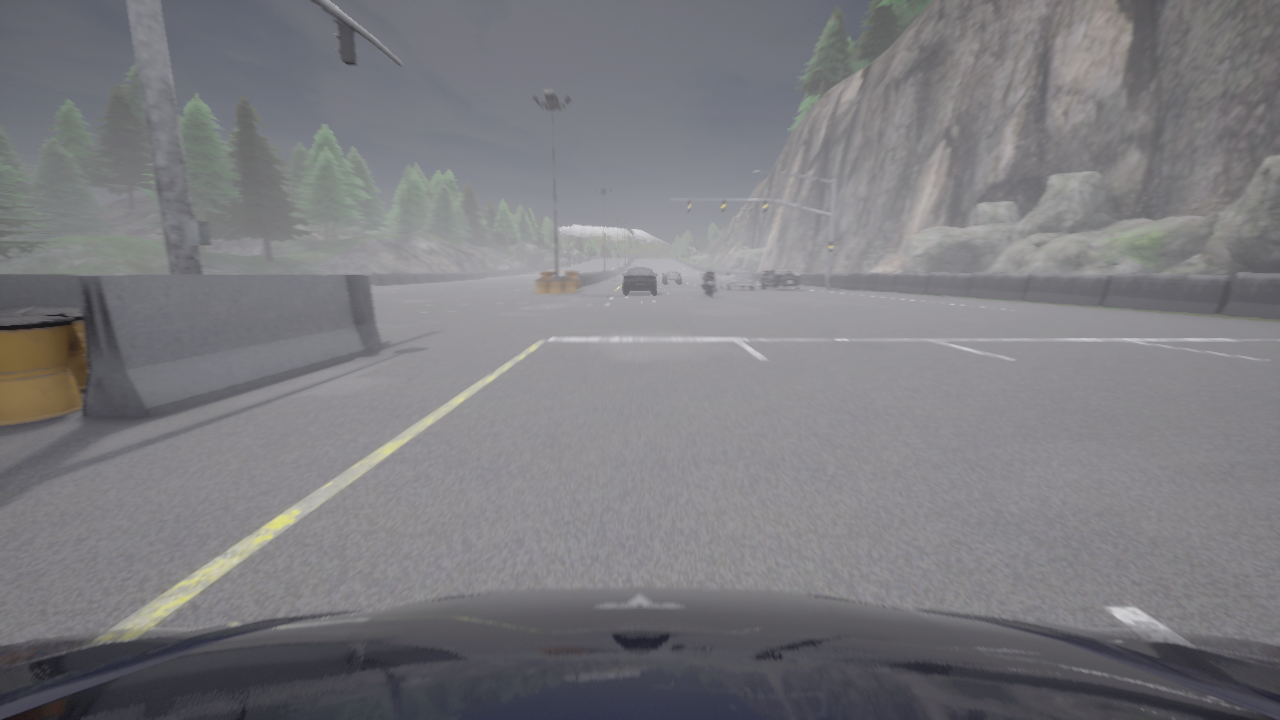cyclist: (0, 588, 1279, 719), (761, 267, 800, 289), (623, 268, 656, 293), (720, 270, 753, 290), (700, 273, 716, 297), (663, 270, 680, 282)
